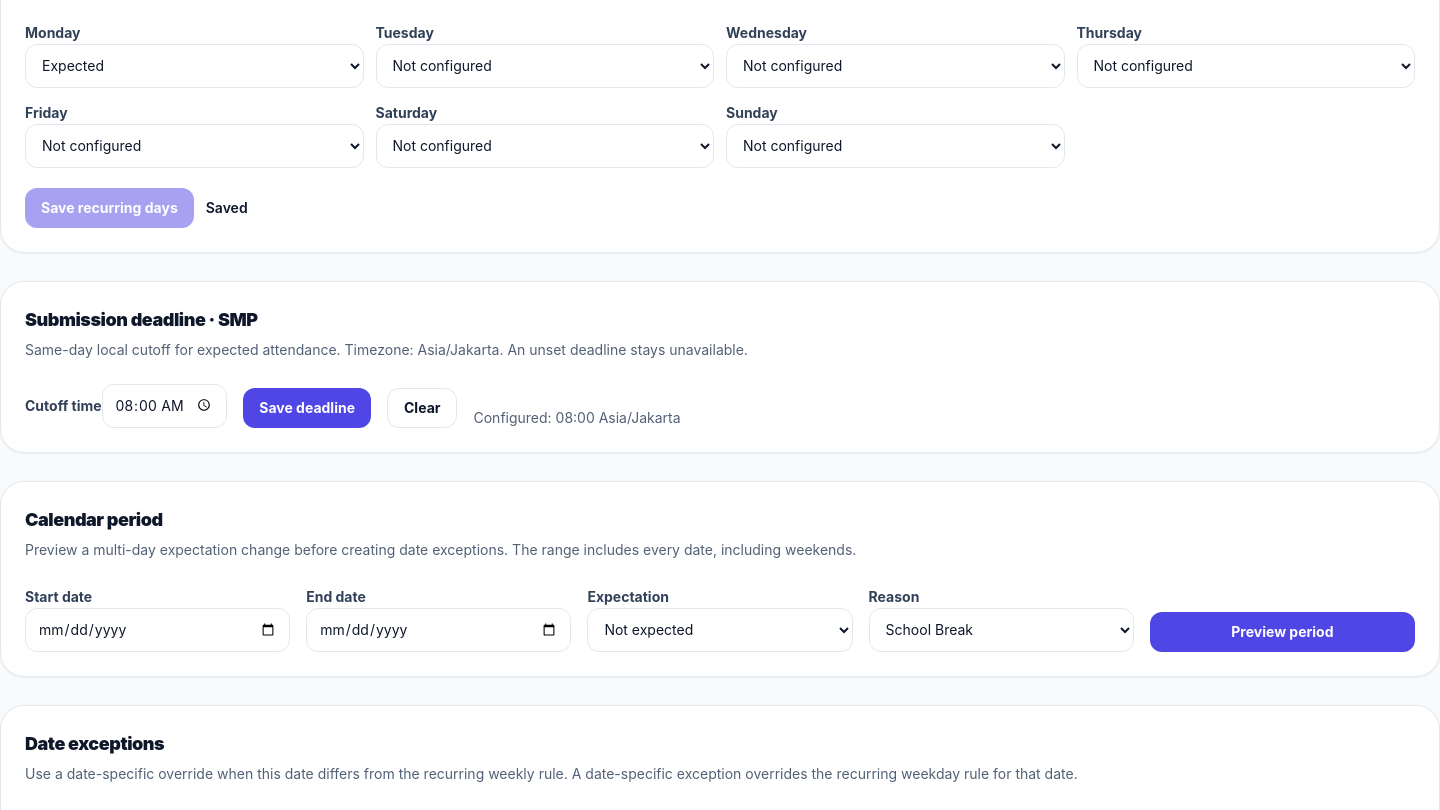
AttendanceCalendar › shows deadline save states and retains the attempted value after failure
(page scrolled)
Replace the text in the time field with id "submission-deadline" with "09:00" at (164, 406), box [102, 384, 227, 428]
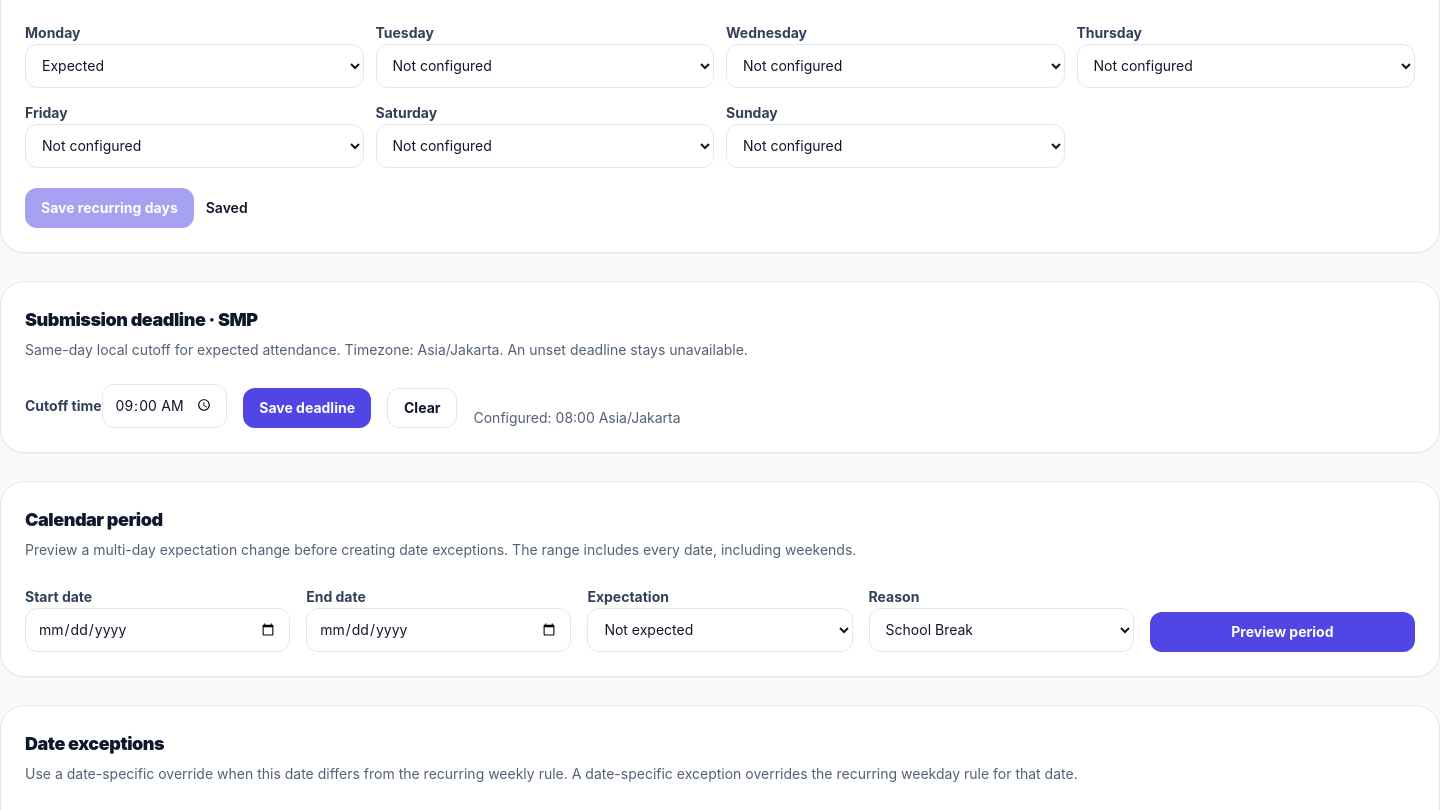
Click the button "Save deadline" at (307, 408), box [243, 388, 371, 428]
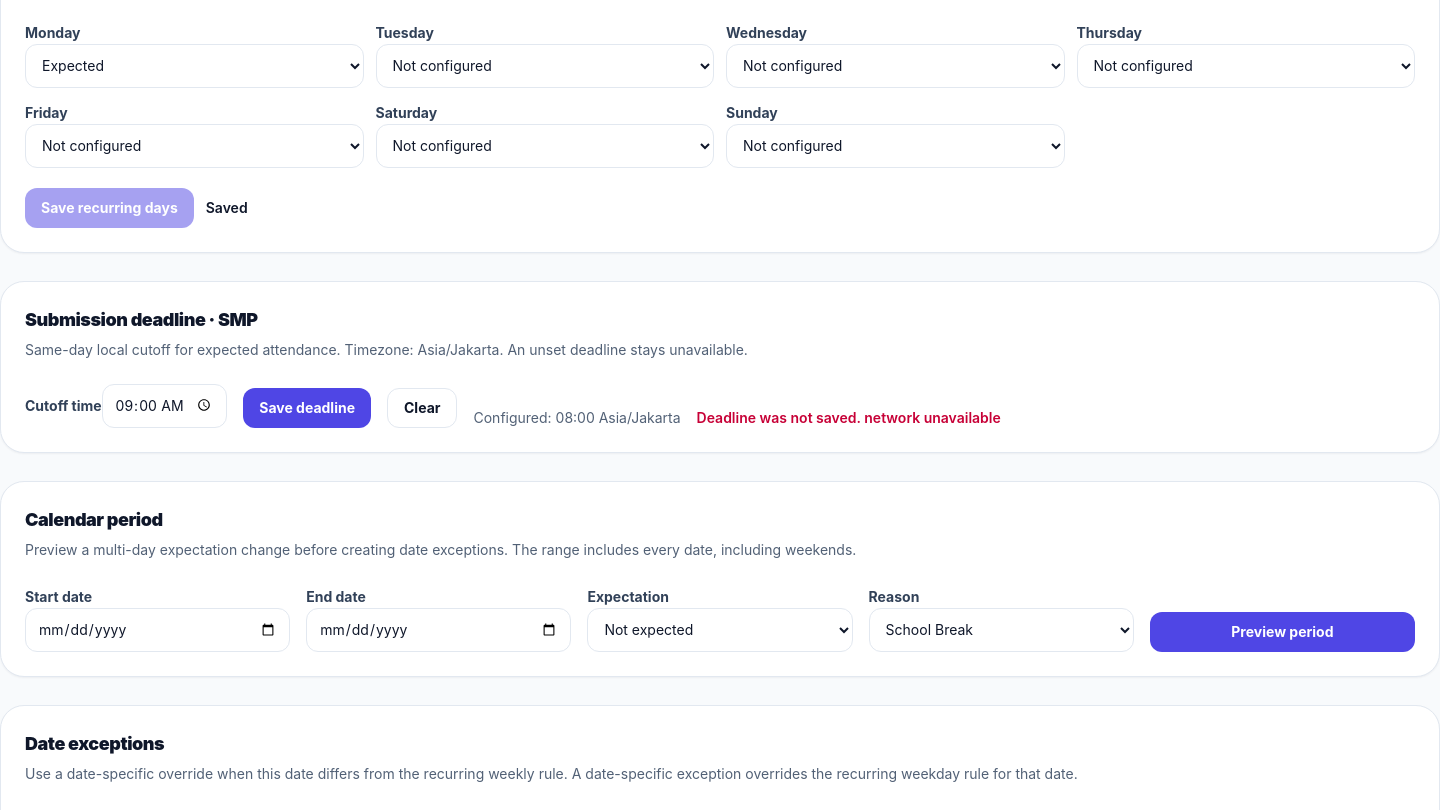
Check: the text "Deadline saved." is not shown
Check: the text "Deadline was not saved" is shown, box [697, 408, 864, 426]
Click the button "Save deadline" at (307, 408), box [243, 388, 371, 428]
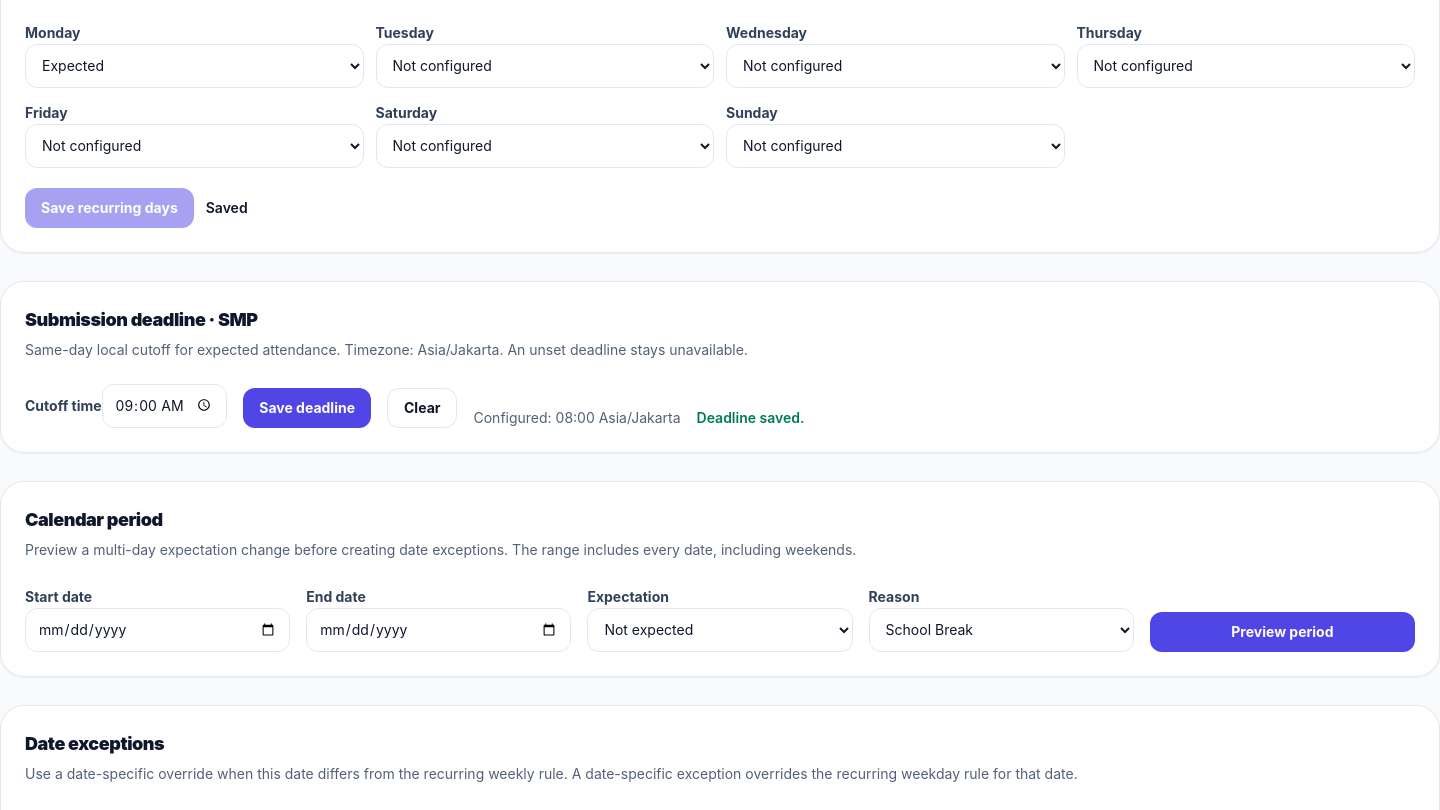
Check: the text "Deadline saved." is shown, box [697, 408, 804, 428]
